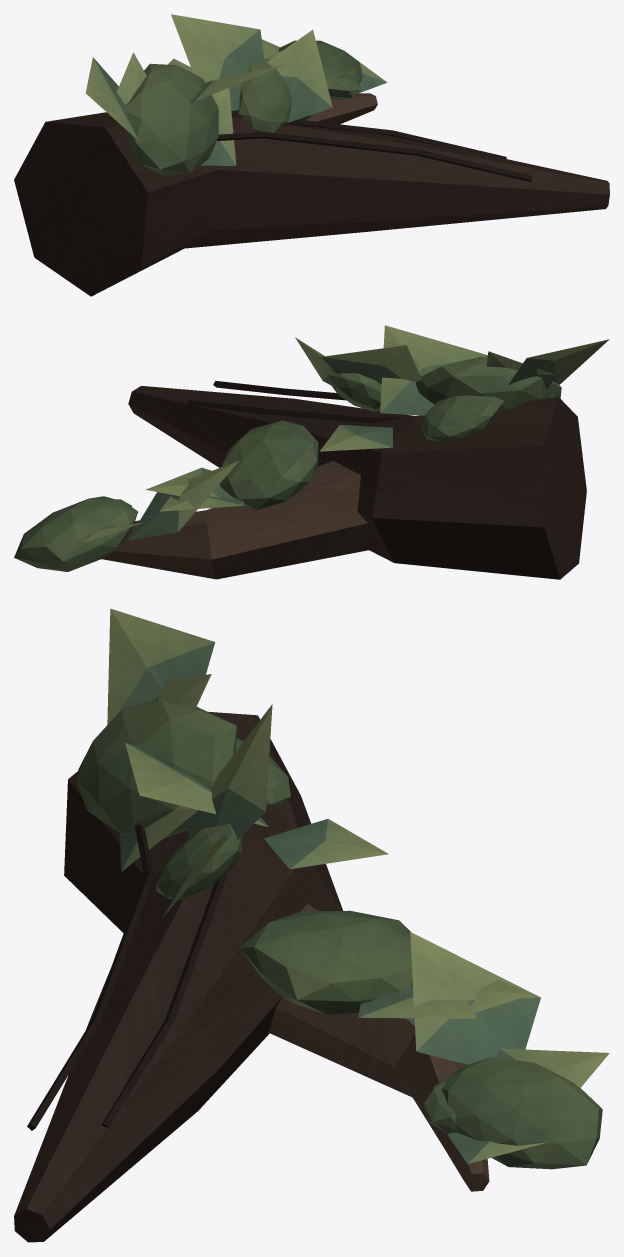
File: forest_root.glb
3 renders of one model, top to bottom at view 1: azimuth 30°, elevation 25°; view 2: azimuth 150°, elevation 25°; view 3: azimuth 270°, elevation 25°, orthographic. The views are drawn at different scales.
Visible parts, largest first — view 1: Gnarled exposed root, Woodland shared moss cushion.030, Woodland shared curved ivy leaf.099, Woodland shared curved ivy leaf.100, Woodland shared moss cushion.034, Root bark carved grain, Woodland shared curved ivy leaf.091, Woodland shared curved ivy leaf.092, Woodland shared moss cushion.029, Root fork, Root bark carved grain.001, Woodland shared curved ivy leaf.097 (+3 smaller); view 2: Gnarled exposed root, Root fork, Woodland shared moss cushion.032, Woodland shared moss cushion.029, Woodland shared moss cushion.030, Woodland shared curved ivy leaf.097, Woodland shared moss cushion.033, Woodland shared curved ivy leaf.089, Woodland shared curved ivy leaf.099, Woodland shared curved ivy leaf.091, Woodland shared curved ivy leaf.098, Woodland shared moss cushion.034 (+7 smaller); view 3: Gnarled exposed root, Woodland shared moss cushion.032, Woodland shared moss cushion.029, Woodland shared moss cushion.030, Root fork, Woodland shared curved ivy leaf.089, Woodland shared curved ivy leaf.091, Woodland shared curved ivy leaf.099, Woodland shared curved ivy leaf.098, Woodland shared moss cushion.034, Root bark carved grain, Woodland shared curved ivy leaf.097 (+9 smaller).
Part boxes in pixels (x1,y1,x2,y2): Gnarled exposed root: [14, 111, 609, 296]; Woodland shared moss cushion.030: [125, 63, 218, 175]; Woodland shared curved ivy leaf.099: [171, 14, 264, 110]; Woodland shared curved ivy leaf.100: [266, 29, 332, 122]; Woodland shared moss cushion.034: [237, 58, 291, 132]; Root bark carved grain: [217, 132, 532, 181]; Woodland shared curved ivy leaf.091: [85, 57, 137, 139]; Woodland shared curved ivy leaf.092: [200, 88, 236, 165]; Woodland shared moss cushion.029: [278, 40, 362, 82]; Root fork: [305, 93, 377, 124]; Root bark carved grain.001: [231, 113, 506, 159]; Woodland shared curved ivy leaf.097: [189, 64, 285, 102]; Gnarled exposed root: [128, 386, 586, 579]; Root fork: [101, 460, 372, 579]; Woodland shared moss cushion.032: [219, 420, 318, 510]; Woodland shared moss cushion.029: [14, 496, 137, 571]; Woodland shared moss cushion.030: [416, 356, 561, 411]; Woodland shared curved ivy leaf.097: [380, 325, 487, 415]; Woodland shared moss cushion.033: [420, 395, 503, 442]; Woodland shared curved ivy leaf.089: [128, 461, 238, 540]; Woodland shared curved ivy leaf.099: [321, 345, 421, 384]; Woodland shared curved ivy leaf.091: [508, 339, 609, 384]; Woodland shared curved ivy leaf.098: [319, 425, 392, 451]; Woodland shared moss cushion.034: [327, 371, 381, 411]; Gnarled exposed root: [14, 711, 342, 1242]; Woodland shared moss cushion.032: [239, 910, 412, 1014]; Woodland shared moss cushion.029: [441, 1057, 602, 1169]; Woodland shared moss cushion.030: [76, 700, 236, 838]; Root fork: [268, 903, 489, 1191]; Woodland shared curved ivy leaf.089: [410, 932, 540, 1064]; Woodland shared curved ivy leaf.091: [107, 608, 215, 724]; Woodland shared curved ivy leaf.099: [186, 704, 272, 839]; Woodland shared curved ivy leaf.098: [264, 819, 388, 869]; Woodland shared moss cushion.034: [156, 824, 242, 899]; Root bark carved grain: [27, 824, 153, 1130]; Woodland shared curved ivy leaf.097: [125, 742, 268, 826].
Bounding box in the file's own units: 0.9979 × 0.4181 × 0.7349.
6 materials, 6 textured.
